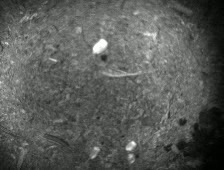corn: (91, 37, 109, 56), (86, 144, 103, 161), (123, 139, 138, 153), (126, 152, 138, 167)
